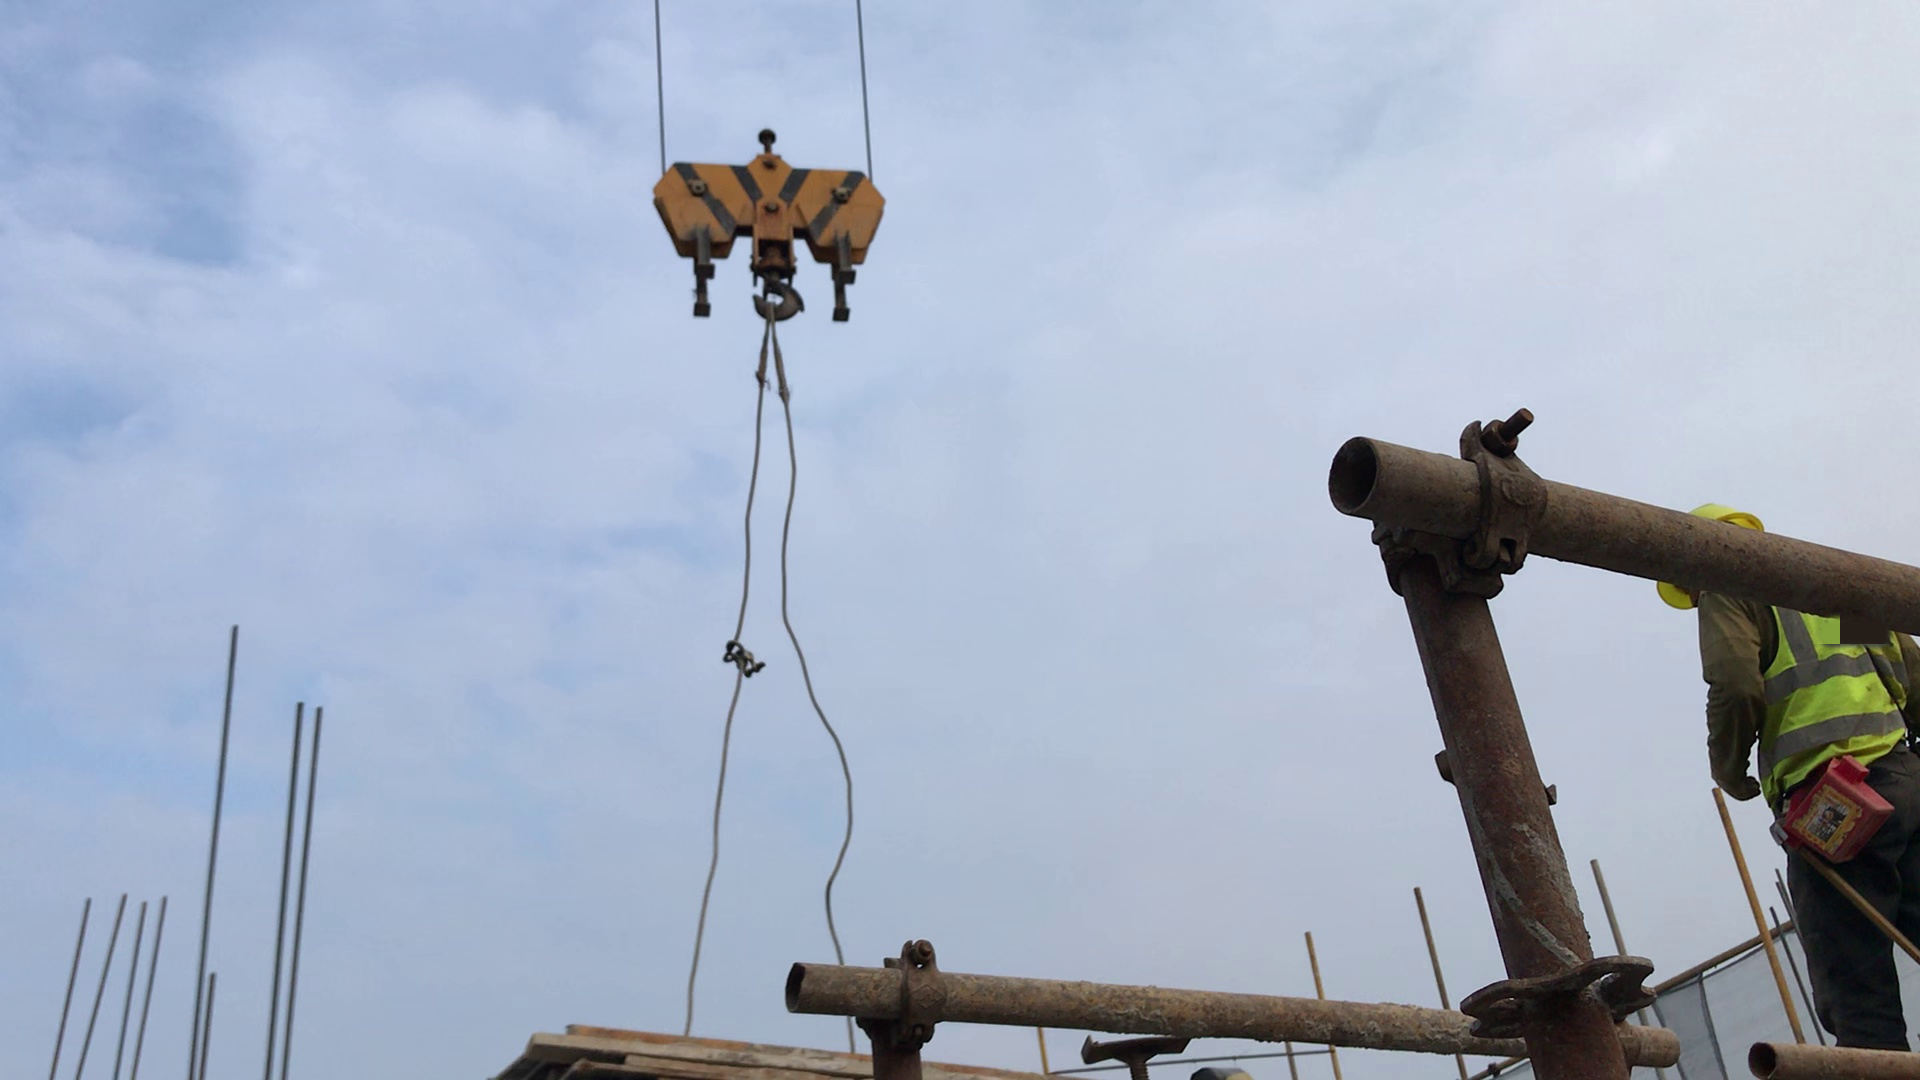helmet: (1659, 494, 1765, 618)
hook: (650, 124, 887, 323)
person: (1659, 498, 1920, 1059)
